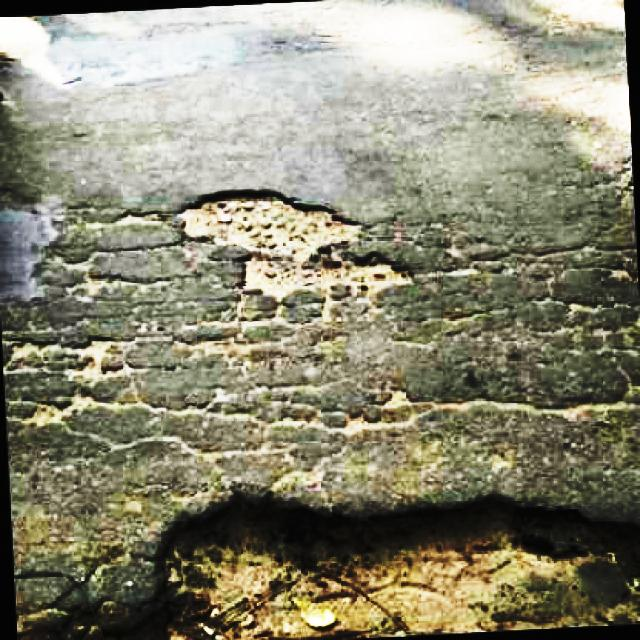pothole: (9, 489, 640, 640), (180, 186, 412, 299), (0, 334, 122, 426)
